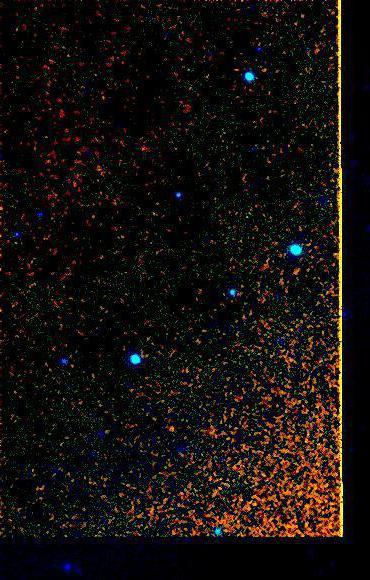star: (158, 412, 188, 442)
